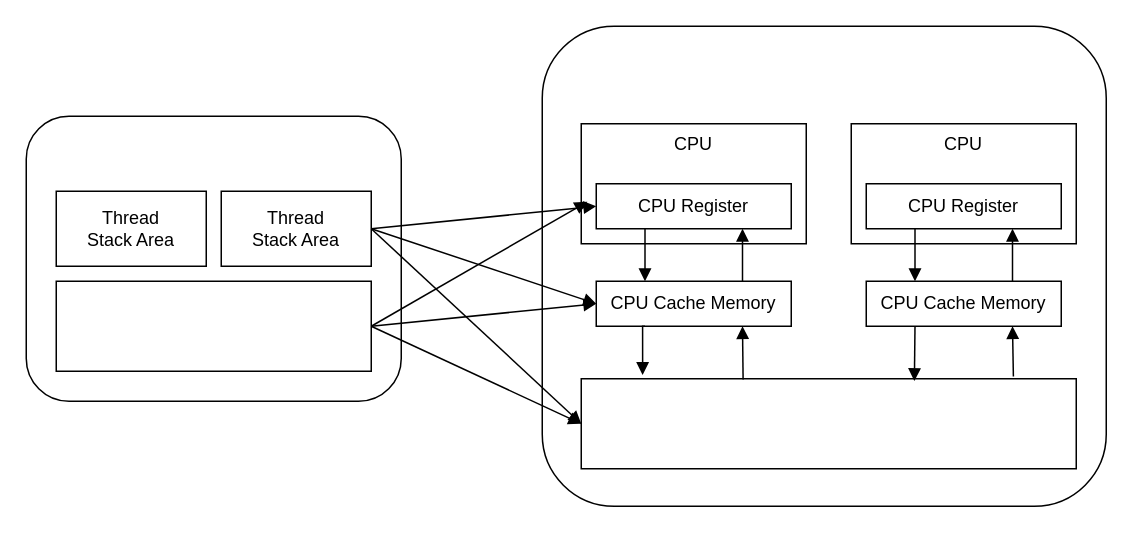
This 1133x533 diagram has some shape labels left out. The shapes that lost their labels are listed below. From the top down, each one's box as (x1, y1, x2, y2) in pixels, then its label:
(25, 115, 401, 401): JVM
(541, 25, 1106, 506): Computer
(55, 280, 371, 371): Heap Area
(580, 377, 1076, 469): Main Memory
